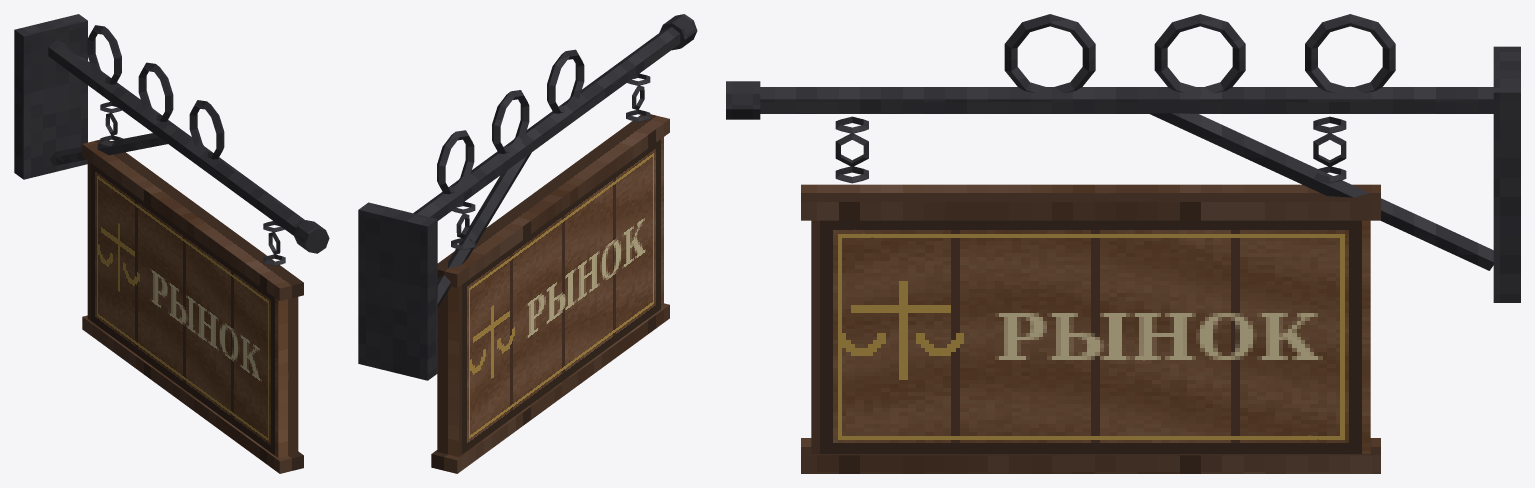
The model's file is sign_market.glb.
3 views of the same model, side by side, from view 1: azimuth 30°, elevation 25°; view 2: azimuth 150°, elevation 25°; view 3: azimuth 270°, elevation 25° (orthographic). The views are drawn at different scales.
Parts seen in each view (by area): view 1: board, bracket; view 2: board, bracket; view 3: board, bracket.
Part boxes in pixels (x1,y1,x2,y2): board: (82, 139, 303, 473); bracket: (14, 14, 329, 265); board: (431, 114, 669, 473); bracket: (358, 14, 697, 380); board: (801, 184, 1380, 473); bracket: (726, 14, 1520, 302).
Bounding box in the file's own units: 0.16 × 0.73 × 1.16.
Materials: 3 (3 with a texture image).
